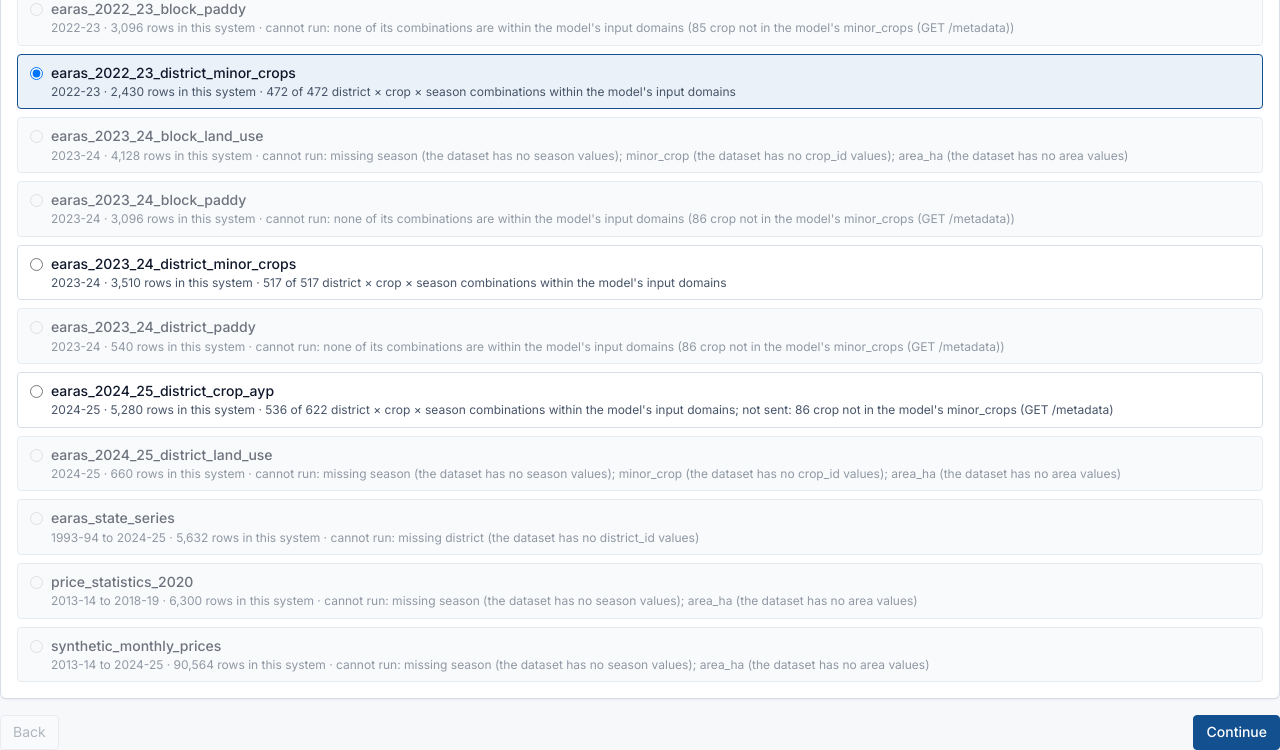
Scenario: Sandbox (RFP areas 6-7) › keeps every estimate when the evaluation fails, and labels the comparison honestly
(page scrolled)
Click the button "Continue": point(1237, 733) 1194,715 -> 1279,749
(page scrolled)
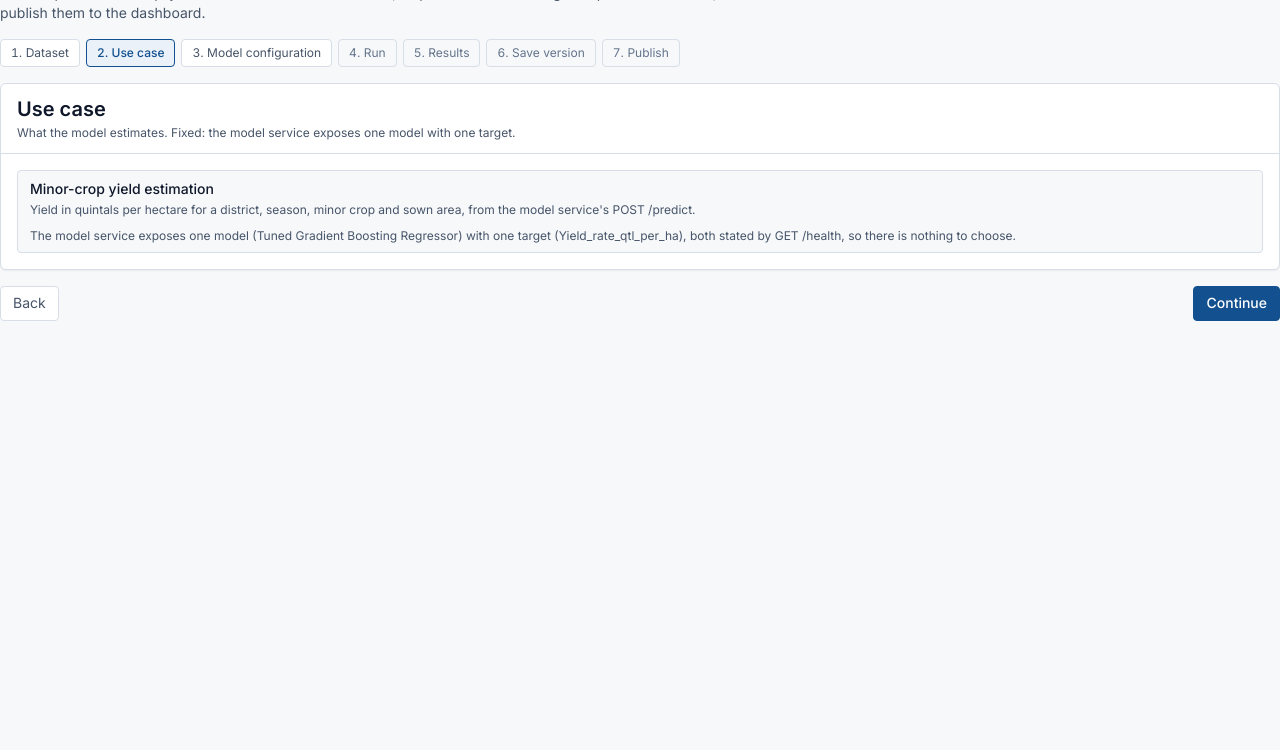
Click the button "Continue": point(1237, 303) 1194,286 -> 1279,321
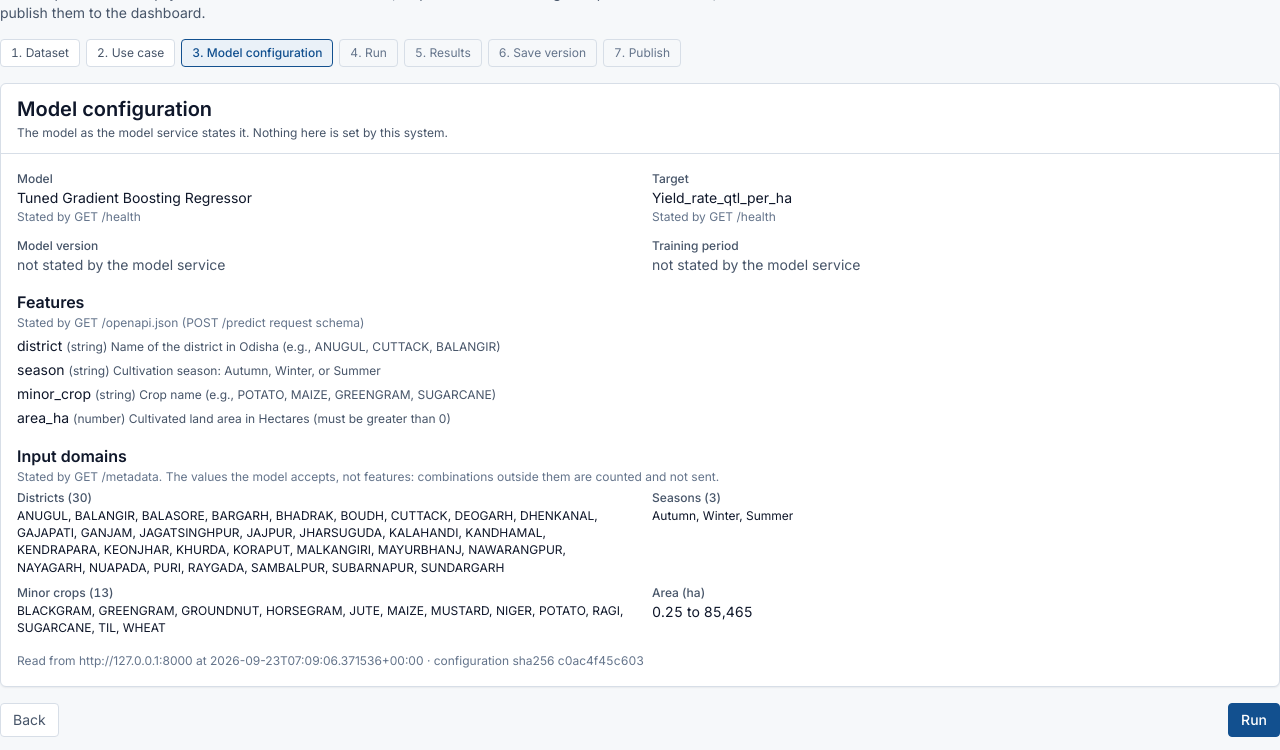
Click the button "Run": point(1254, 720) 1228,703 -> 1279,737
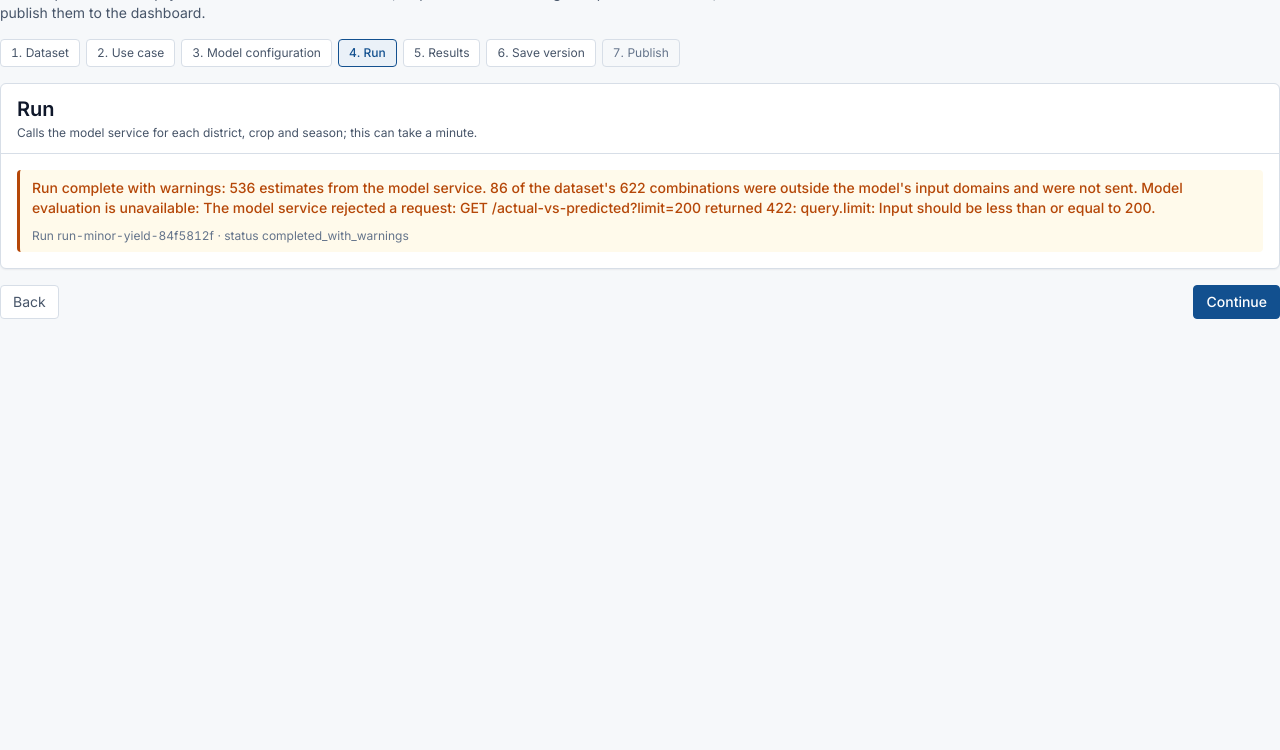
Expected: the text "Run complete with warnings: 536 estimates" shows "86 of the dataset's 622 combinations were outside", 32,179 -> 1183,216
Expected: the text "Run complete with warnings: 536 estimates" shows "GET /actual-vs-predicted?limit=200 returned 422: query.limit", 32,179 -> 1183,216
Click the button "Continue": point(1237, 302) 1194,285 -> 1279,320
(page scrolled)
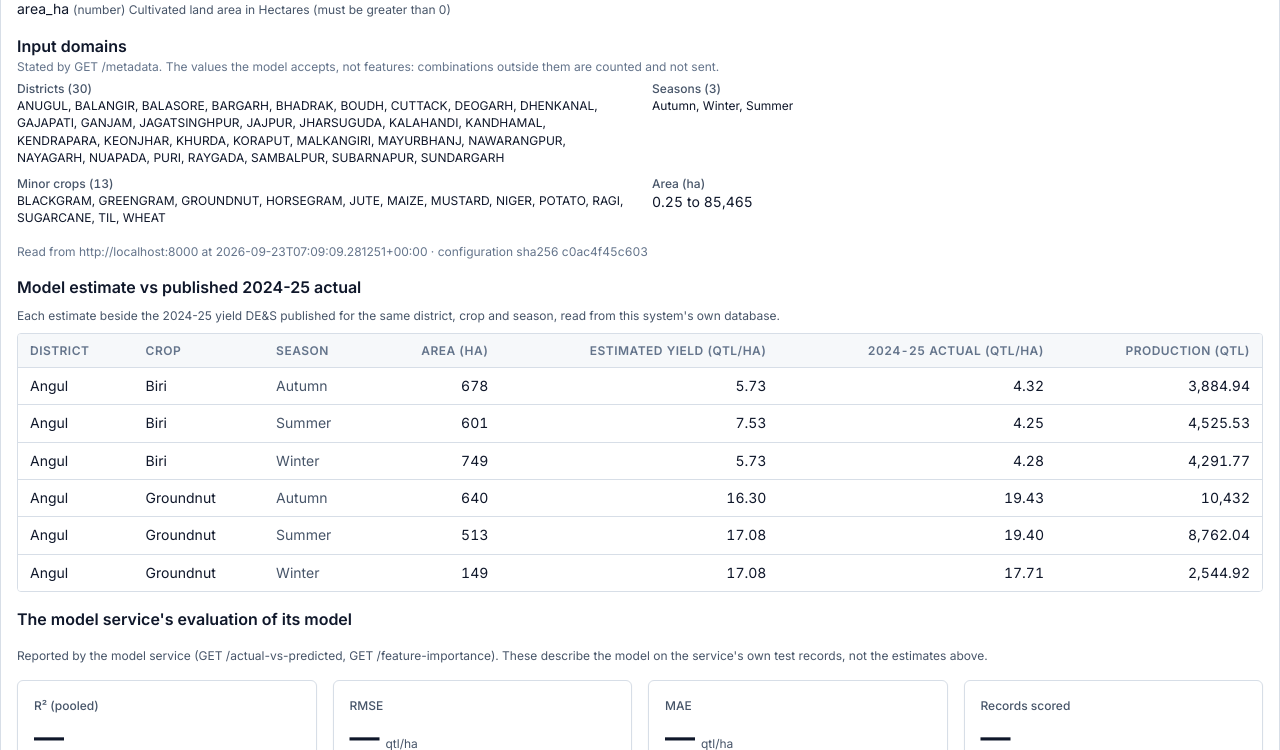
Expected: the heading "Model estimate vs published 2024-25 actual" is shown, 17,277 -> 361,297
Expected: the heading "The model service's evaluation of its model" is shown, 17,609 -> 352,629
Expected: the column heading "2024-25 actual (qtl/ha)" is shown, 778,334 -> 1056,368
